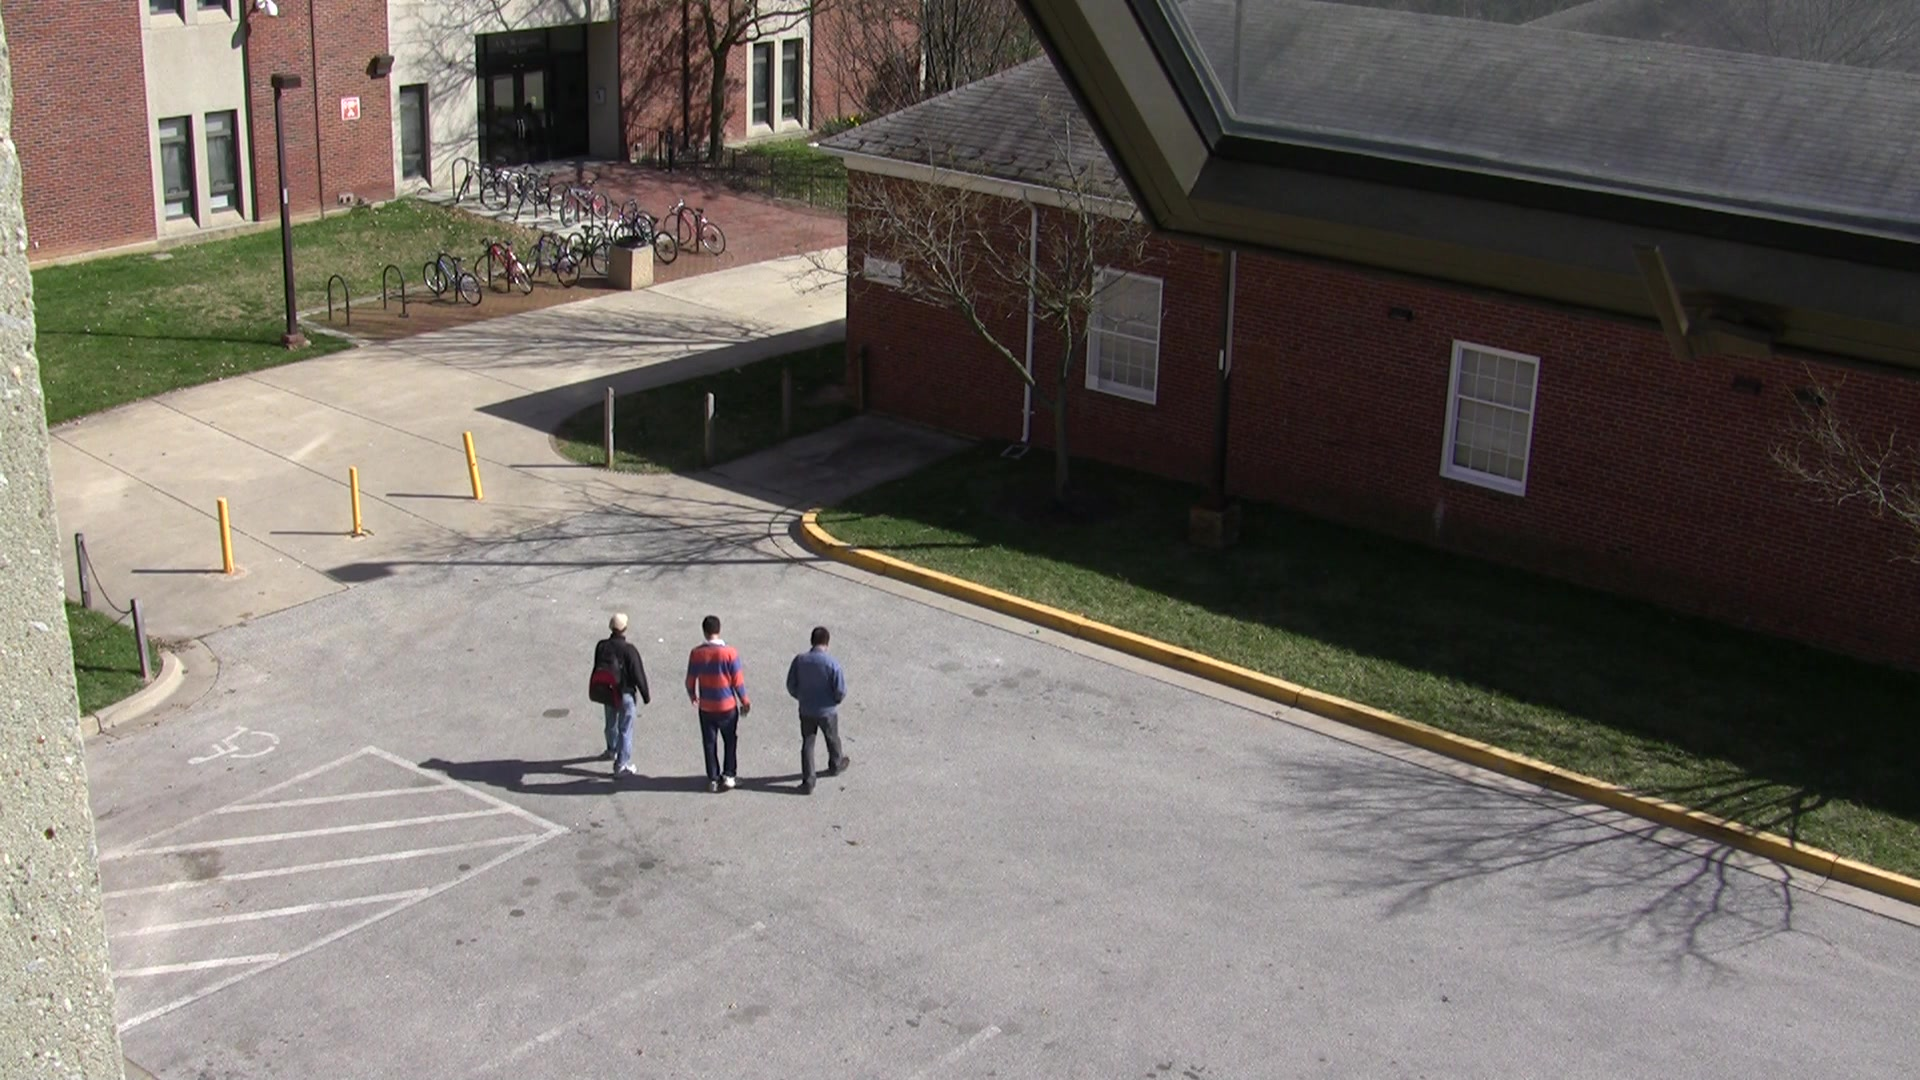person: (765, 607, 863, 805), (661, 613, 761, 797), (563, 593, 654, 790)
